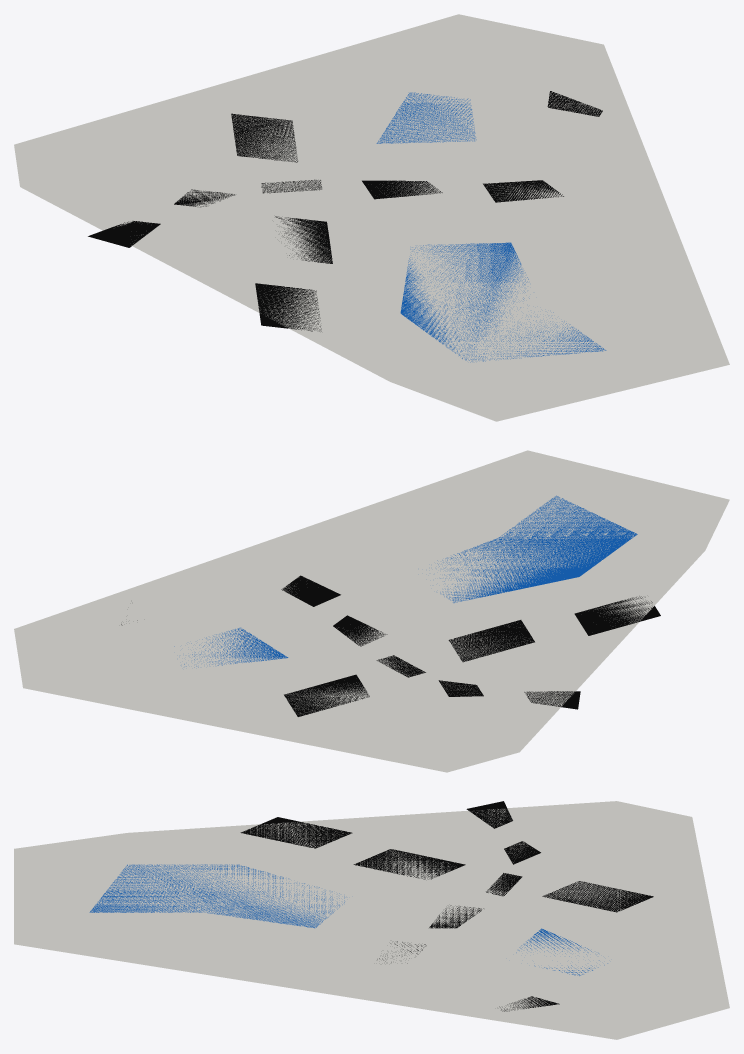
Rendered from inv_map_part_2.obj.
The picture shows the model from 3 angles, top to bottom: view 1: azimuth 30°, elevation 25°; view 2: azimuth 150°, elevation 25°; view 3: azimuth 270°, elevation 25°; orthographic projection. The views are drawn at different scales.
Bounding box in the file's own units: 0.4688 × 0 × 0.5938.
